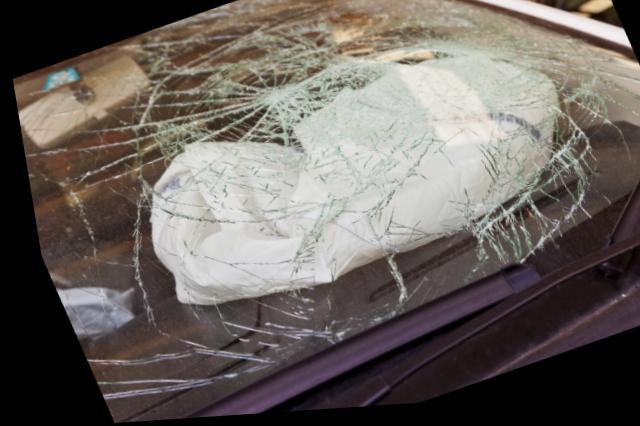glass shatter: (10, 0, 640, 424)
